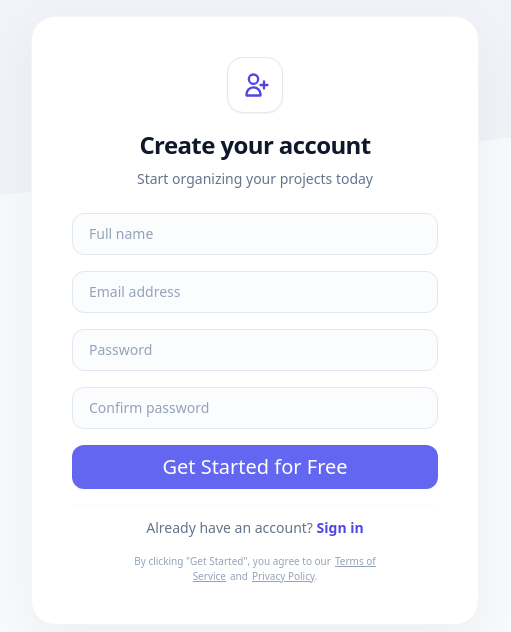
it: shows  validation errors when submitting empty form
// user click submit without typing anything
Click the button "Get Started for Free": (255, 466) x1=72 y1=444 x2=438 y2=488
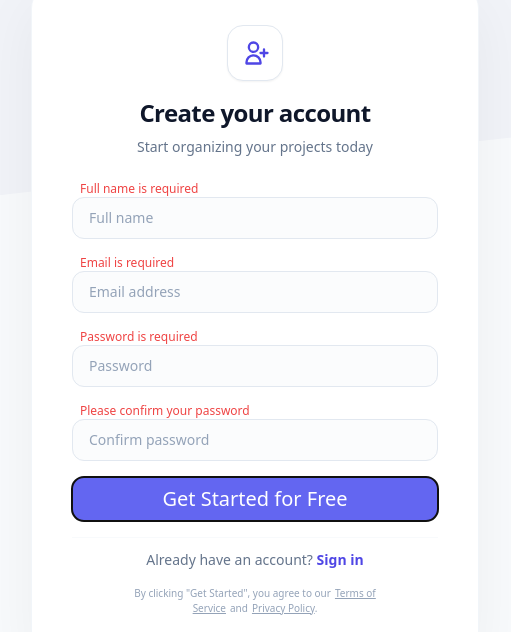
Result: the text "Full name is required" is shown at x1=80 y1=180 x2=198 y2=196
Result: the text "Email is required" is shown at x1=80 y1=254 x2=174 y2=270
Result: the text "Password is required" is shown at x1=80 y1=328 x2=198 y2=344
